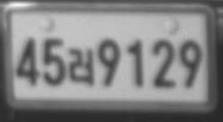1: (125, 39, 149, 87)
2: (150, 39, 177, 88)
4: (14, 36, 40, 85)
5: (42, 38, 66, 86)
9: (95, 38, 121, 87), (179, 39, 203, 89)
러: (68, 48, 95, 85)
